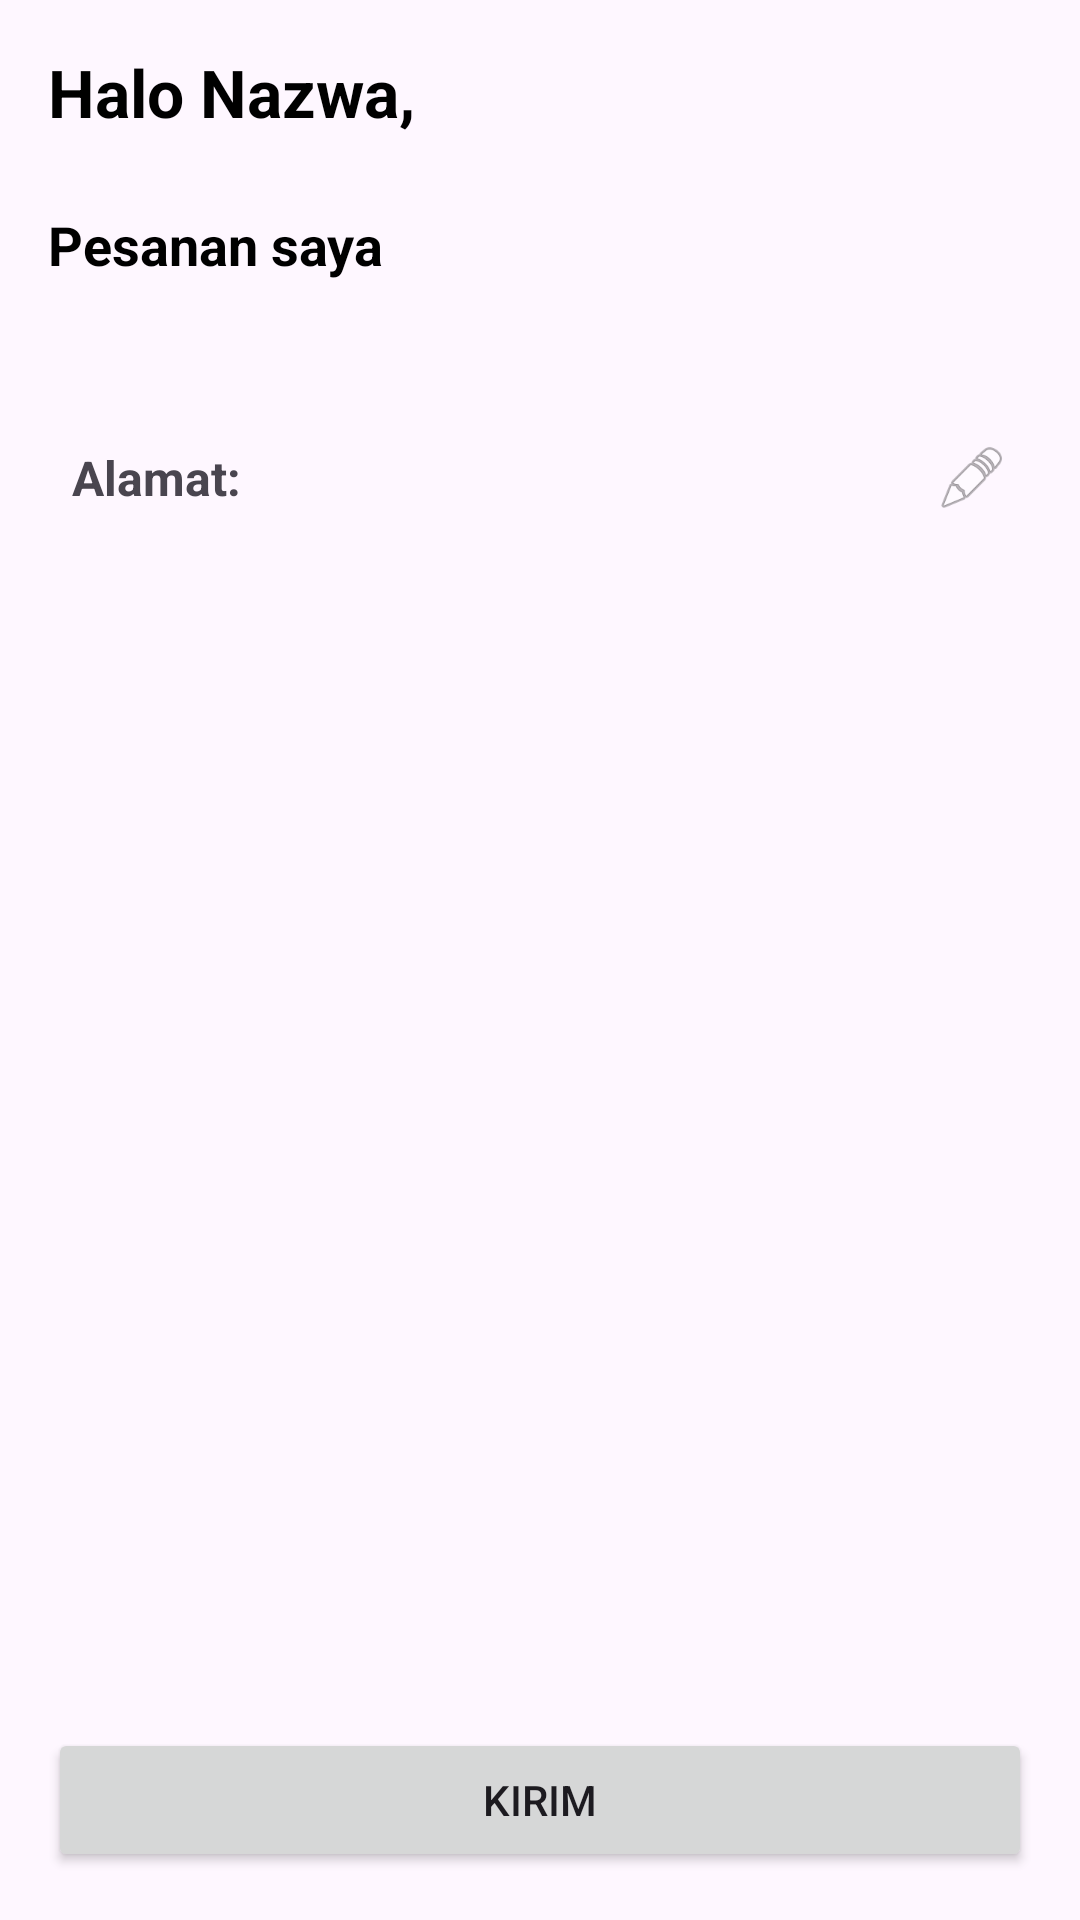

Screen size 1080x1920. Icon name, then its box in pixels as box(x1, y1, x2, y2):
edit: box(941, 447, 1002, 508)
